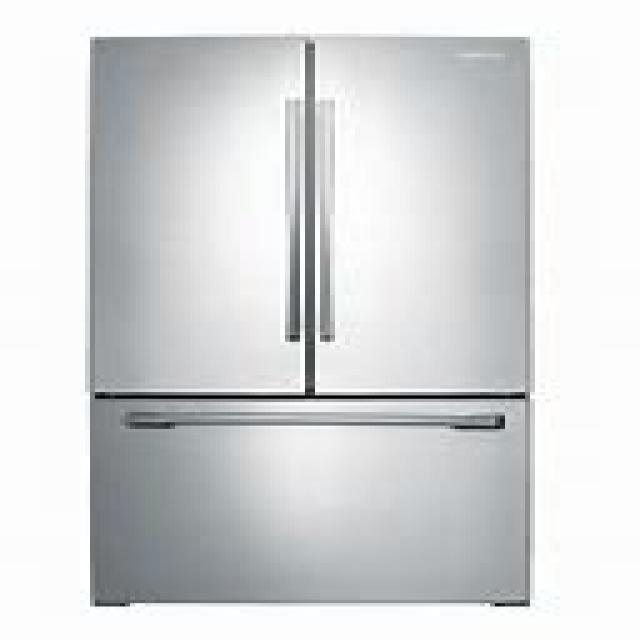fridge: (85, 30, 530, 607)
